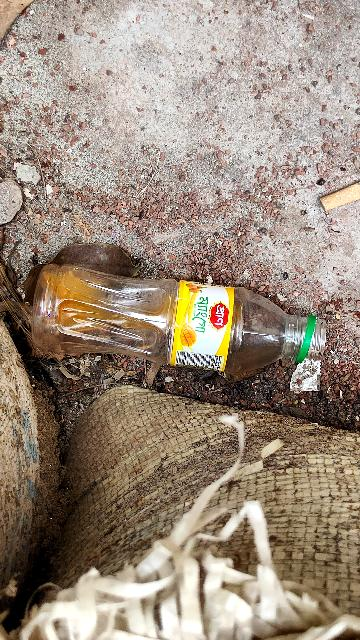bottle: (29, 259, 327, 389)
